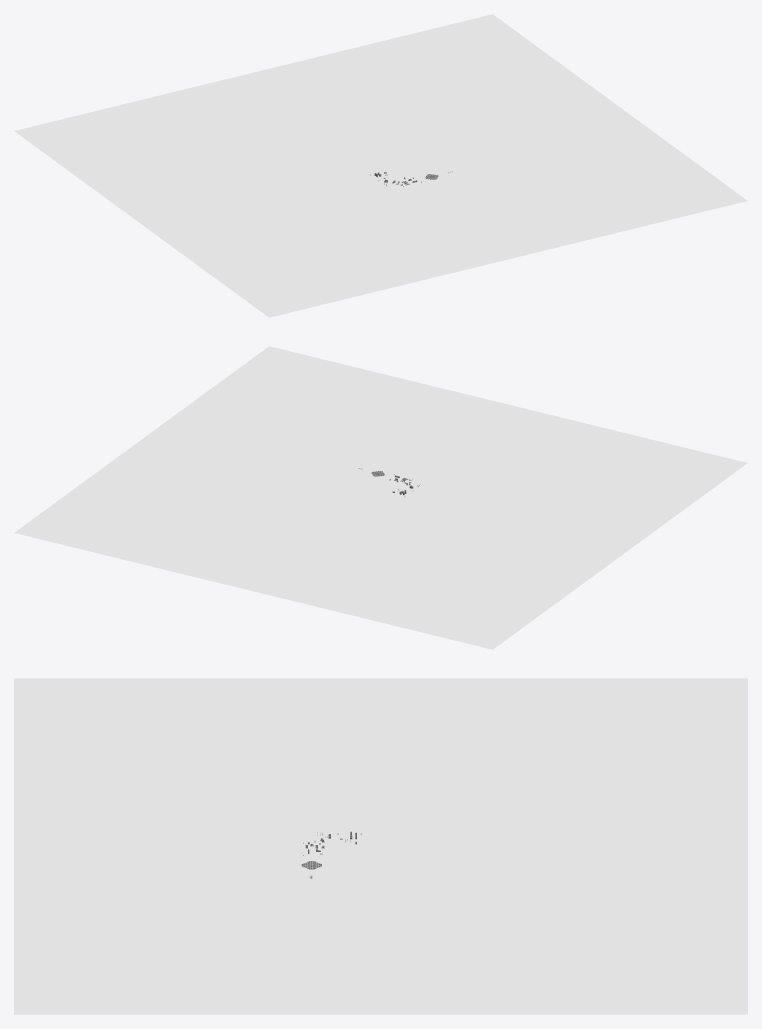
Rendered from 2nuclear_staffing_noHumans.glb.
3 views of the same model, one above another, from view 1: azimuth 30°, elevation 25°; view 2: azimuth 150°, elevation 25°; view 3: azimuth 270°, elevation 25° (orthographic). The views are drawn at different scales.
Visible parts, largest first — view 1: floor; view 2: floor; view 3: floor.
Boxes of the visible parts, left/top/right/bottom form: floor: left=14, top=14, right=747, bottom=317; floor: left=14, top=346, right=747, bottom=649; floor: left=14, top=678, right=747, bottom=1014.
Bounding box in the file's own units: 969 × 6 × 894.
Materials: 4 (2 with a texture image).
